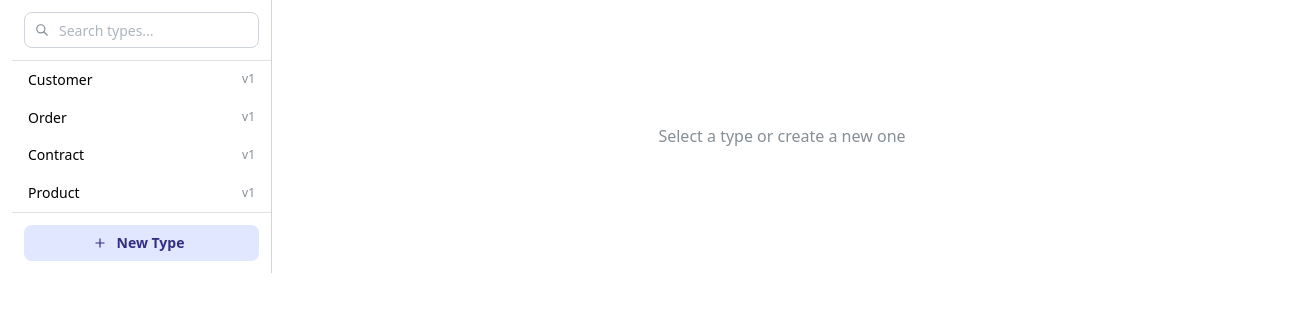
Test: Schema integration › creates a new type and shows it in the list
Check: the text "Customer" is shown, box top-left (28, 69), bottom-right (92, 91)
Check: the text "Order" is shown, box top-left (28, 107), bottom-right (67, 128)
# Click New Type
Click the button "New Type" at (142, 243), box top-left (24, 225), bottom-right (259, 261)
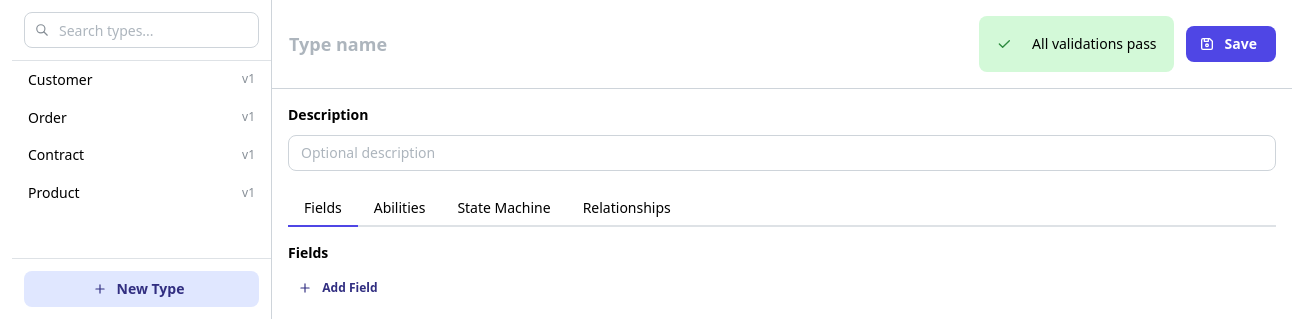
# Fill in the type name
Type "Invoice" into the field with placeholder "Type name" at (626, 44), box top-left (288, 23), bottom-right (963, 65)
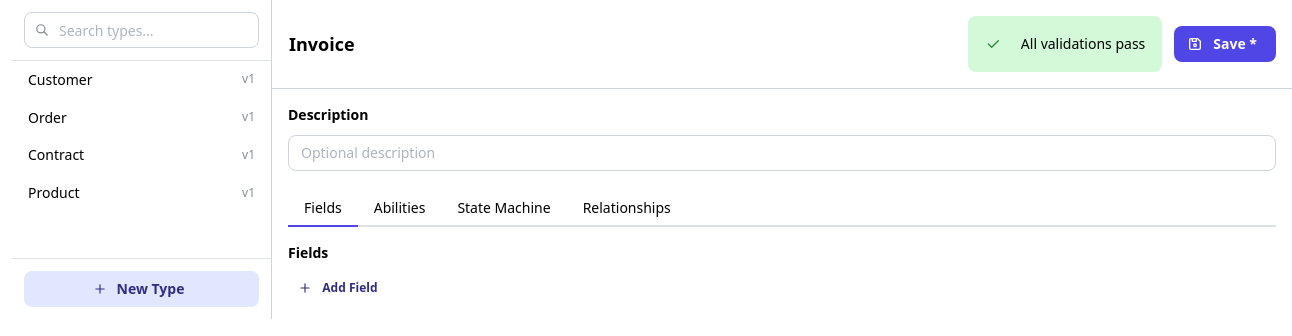
# Find and click Save button
Click the button "Save *" at (1225, 44), box top-left (1174, 26), bottom-right (1276, 62)
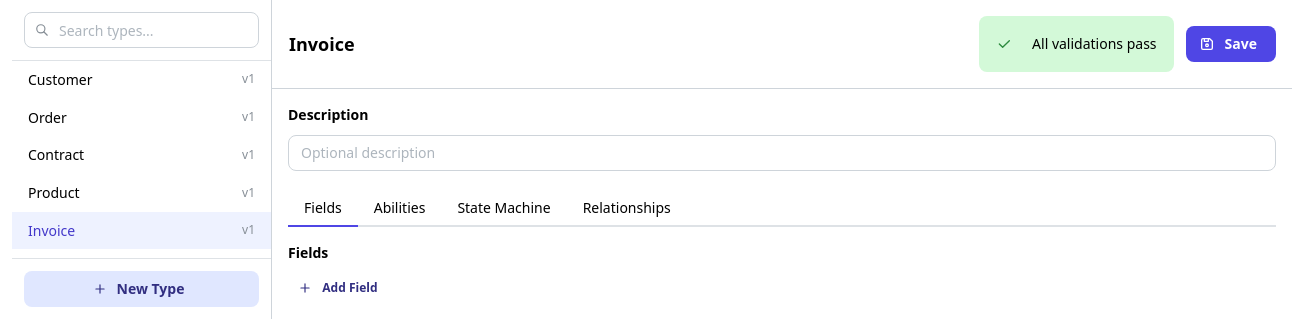
Check: the text "Invoice" is shown, box top-left (28, 220), bottom-right (75, 242)
